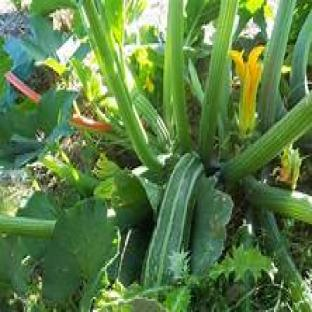Zucchini: (144, 154, 203, 285)
